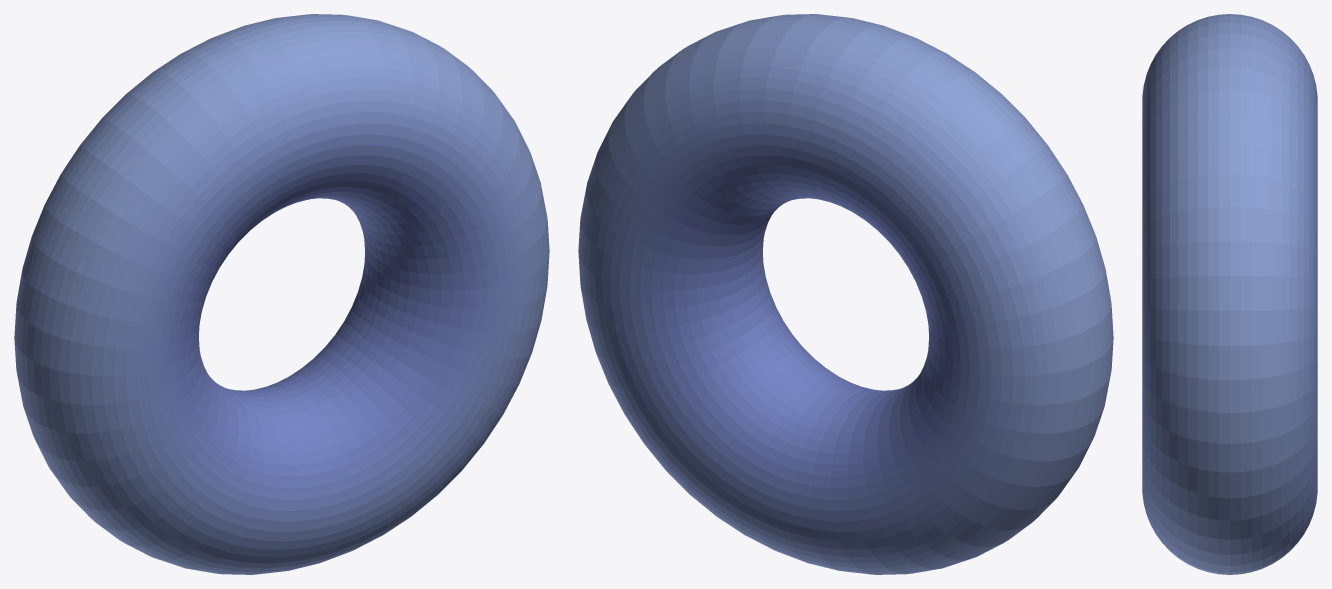
The picture shows the model from 3 angles, left to right: view 1: azimuth 30°, elevation 25°; view 2: azimuth 150°, elevation 25°; view 3: azimuth 270°, elevation 25°; orthographic projection. The views are drawn at different scales.
Parts seen in each view (by area): view 1: world; view 2: world; view 3: world.
Part boxes in pixels (box(x1,y1,x2,y2)): world: box(14, 14, 549, 574); world: box(578, 14, 1113, 574); world: box(1142, 14, 1317, 574).
Size of the model in its own units: 17.47 by 17.43 by 5.46.
